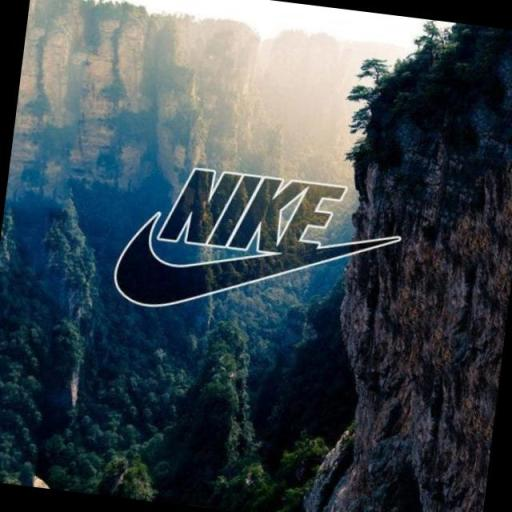Nike: (109, 229, 359, 333), (156, 162, 346, 264)
